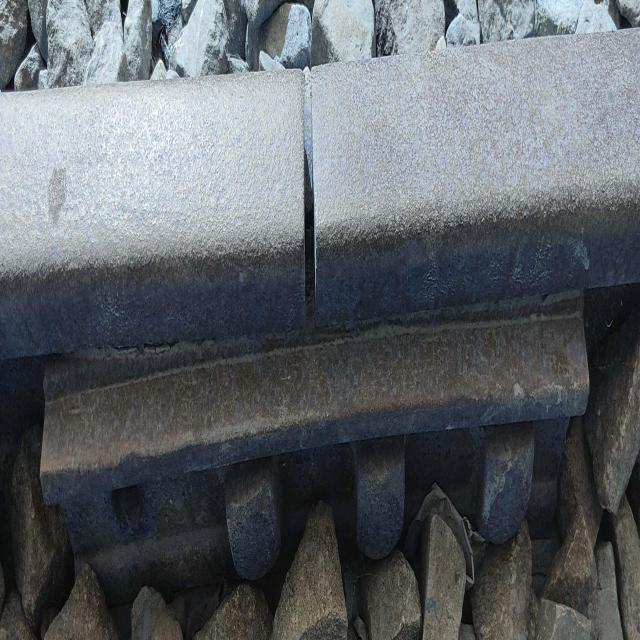Defective Joint: (40, 290, 603, 607)
